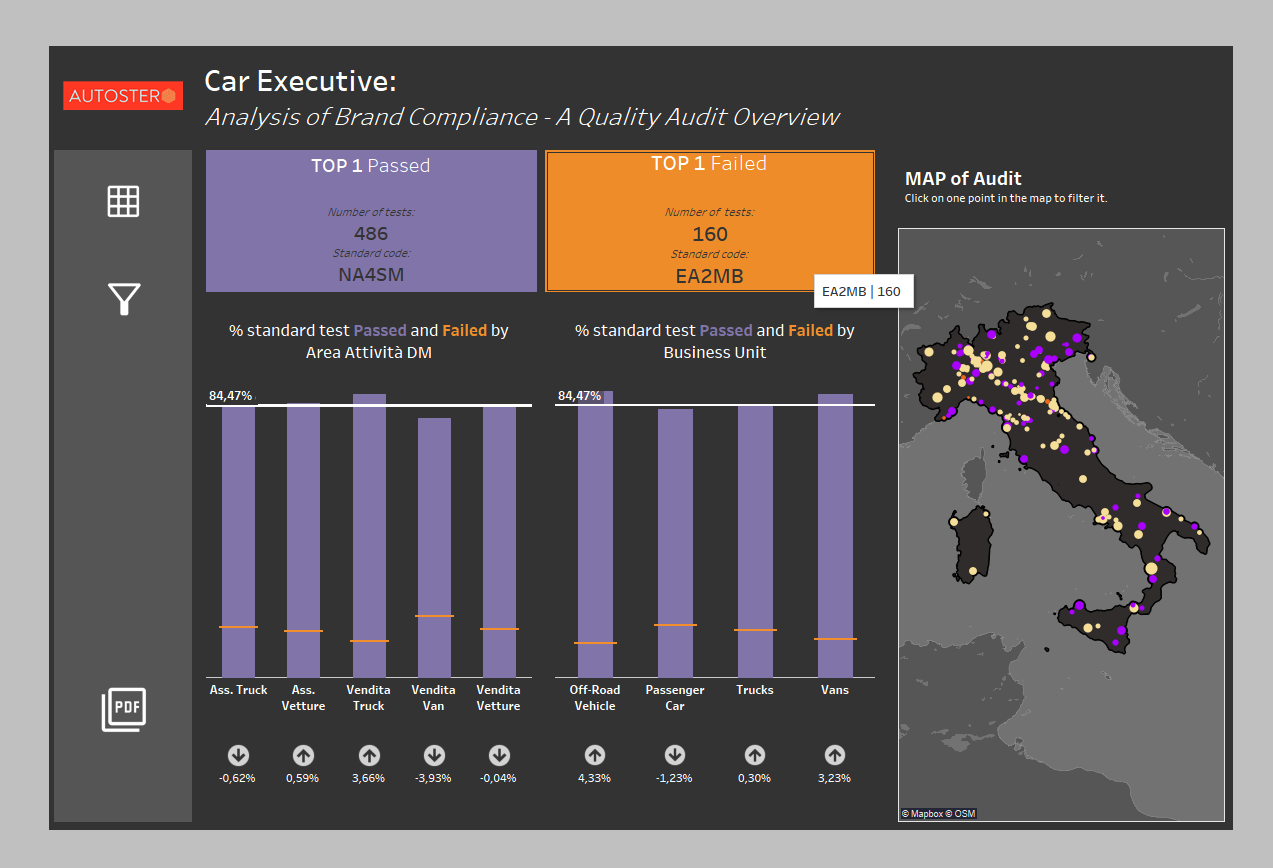

The page's visual inventory and layout, read from the dashboard file:
{"tool":"tableau","page":{"name":"Dashboard 3 (2)","canvas":[1200,800],"ordinal":1},"visuals":[{"type":"worksheet","title":"FILTRI","mark":"Automatic","box":[1,1,1,1]},{"type":"image","param":"Image/logo.png","box":[8,8,150,100]},{"type":"text","box":[158,8,1034,100]},{"type":"worksheet","title":"TOP1 Passed","mark":"Automatic","box":[158,108,330,150]},{"type":"worksheet","title":"TOP1 Failed","mark":"Automatic","box":[488,108,330,150]},{"type":"blank","box":[818,108,20,684]},{"type":"text","box":[13,112,140,88]},{"type":"text","box":[842,112,300,70]},{"type":"dashboard-object","box":[1142,112,42,70]},{"type":"worksheet","title":"Maps","mark":"Automatic","rows":["Latitudine"],"cols":["Longitudine"],"box":[838,186,350,602]},{"type":"filter","title":"FILTRI","param":"[federated.1l47f050teus2n18ifep10qxify6].[dy:Data Audit:ok]","box":[17,250,131,52]},{"type":"blank","box":[158,258,660,40]},{"type":"worksheet","title":"Sheet 10","mark":"Bar","rows":["Calculation_1092122914140753920","Calculation_2811372071556018176"],"cols":["Area attività DM"],"box":[158,298,322,494]},{"type":"blank","box":[480,298,20,494]},{"type":"worksheet","title":"Sheet 10 (2)","mark":"Bar","rows":["Calculation_1092122914140753920","Calculation_2811372071556018176"],"cols":["Business Unit"],"box":[500,298,318,494]},{"type":"filter","title":"FILTRI","param":"[federated.1l47f050teus2n18ifep10qxify6].[none:Data Audit:qk]","box":[17,302,131,67]}]}

Visuals, with their boxes in screenshot pixels (x1, y1, x2, y2), scaled from the page's 1200x800 canvas onto the 1273x868 screenshot:
"FILTRI" worksheet: [1, 1, 2, 2]
image: [8, 9, 168, 117]
text: [168, 9, 1265, 117]
"TOP1 Passed" worksheet: [168, 117, 518, 280]
"TOP1 Failed" worksheet: [518, 117, 868, 280]
blank: [868, 117, 889, 859]
text: [14, 122, 162, 217]
text: [893, 122, 1211, 197]
dashboard-object: [1211, 122, 1256, 197]
"Maps" worksheet: [889, 202, 1260, 855]
"FILTRI" filter: [18, 271, 157, 328]
blank: [168, 280, 868, 323]
"Sheet 10" worksheet (Bar marks): [168, 323, 509, 859]
blank: [509, 323, 530, 859]
"Sheet 10 (2)" worksheet (Bar marks): [530, 323, 868, 859]
"FILTRI" filter: [18, 328, 157, 400]
